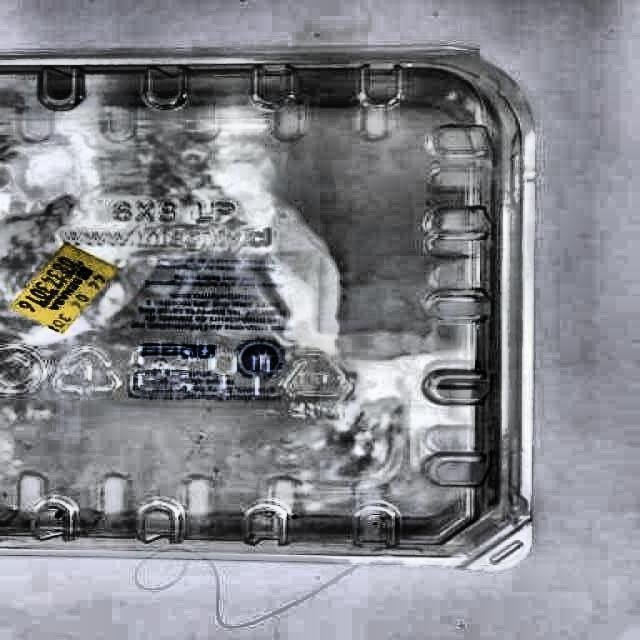plastic: (0, 49, 534, 563)
